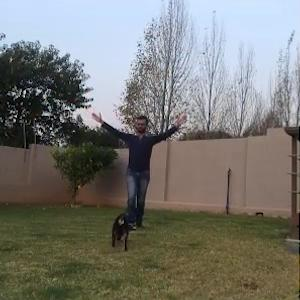takeoff: (92, 113, 181, 224)
